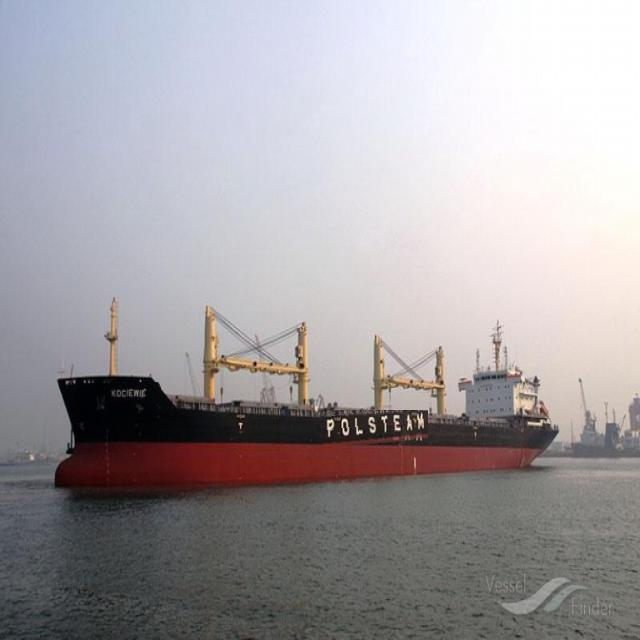OCR: (316, 410, 428, 450), (102, 382, 162, 410)
